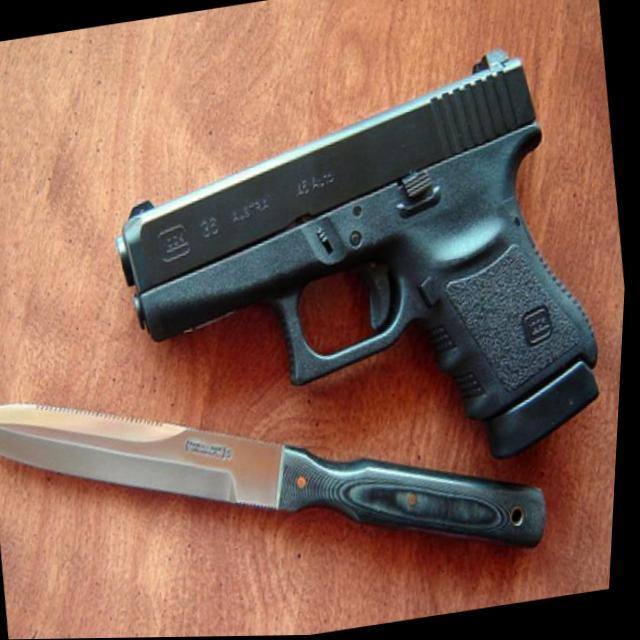weapon: (86, 34, 632, 519), (0, 317, 567, 632)
